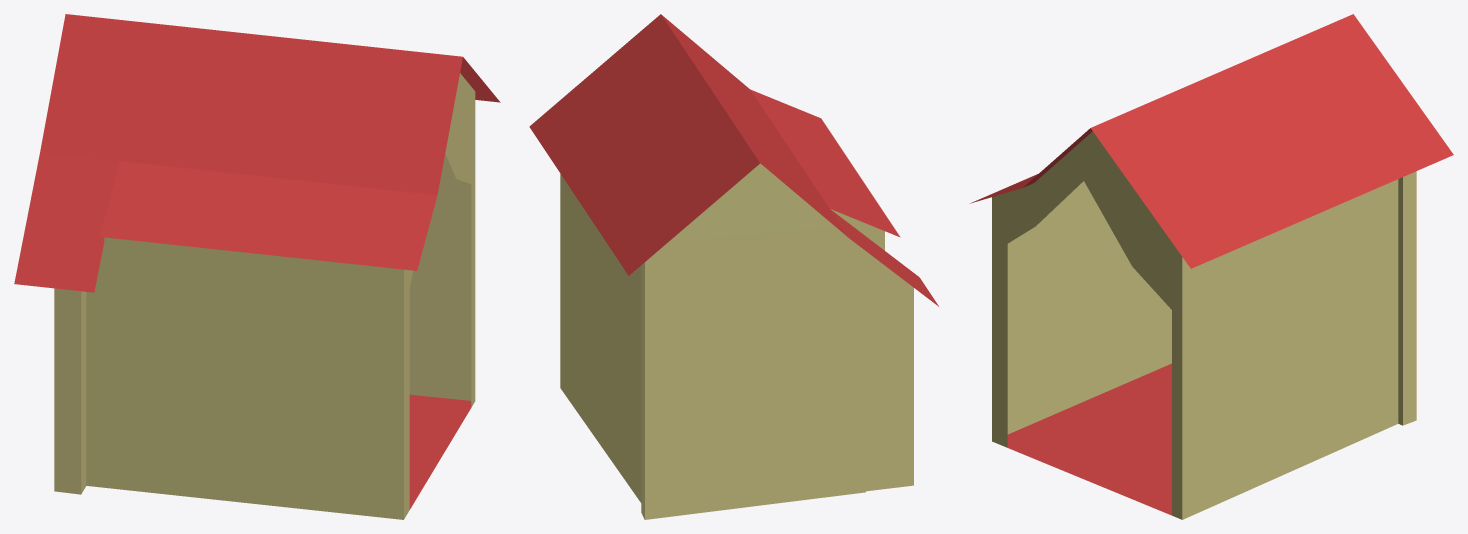
3 views of the same model, side by side, from view 1: azimuth 30°, elevation 25°; view 2: azimuth 150°, elevation 25°; view 3: azimuth 270°, elevation 25° (orthographic). The views are drawn at different scales.
Bounding box in the file's own units: 22.2 × 21.52 × 17.79.
